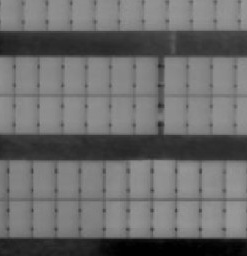solar: (12, 54, 41, 96), (36, 54, 65, 96), (59, 54, 88, 96), (83, 54, 112, 96), (107, 54, 136, 96), (131, 54, 160, 96), (161, 54, 190, 96), (184, 54, 213, 96), (210, 54, 239, 96), (209, 93, 238, 135), (184, 93, 213, 135), (161, 93, 190, 135), (131, 93, 160, 135), (107, 93, 136, 135), (83, 93, 112, 135), (59, 93, 88, 135), (36, 93, 65, 135), (11, 93, 40, 135), (5, 158, 34, 200), (30, 158, 59, 200), (52, 158, 81, 200), (77, 158, 106, 200), (102, 158, 131, 200), (125, 158, 154, 200), (149, 158, 178, 200), (173, 158, 202, 200), (198, 158, 227, 200), (198, 196, 227, 238), (173, 197, 202, 239), (149, 196, 178, 238), (125, 196, 154, 238), (102, 196, 131, 238), (77, 196, 106, 238), (53, 196, 82, 238), (29, 196, 58, 238), (5, 196, 34, 238)
